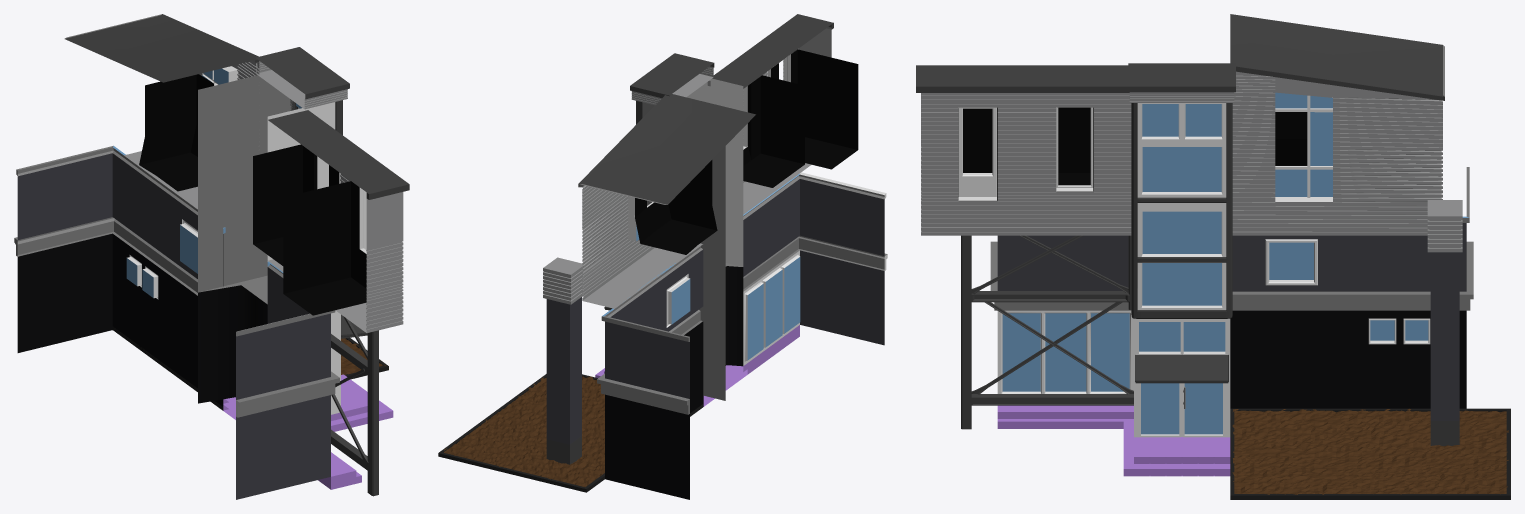
The model's file is Campus.fbx.
3 renders of one model, left to right at view 1: azimuth 30°, elevation 25°; view 2: azimuth 150°, elevation 25°; view 3: azimuth 270°, elevation 25°, orthographic. The views are drawn at different scales.
Visible parts, largest first — view 1: Box006; view 2: Box006; view 3: Box006.
Part boxes in pixels (left/top/right/bottom): Box006: left=14, top=14, right=409, bottom=499; Box006: left=438, top=14, right=887, bottom=499; Box006: left=916, top=14, right=1510, bottom=499.
Size of the model in its own units: 673 by 843 by 1236.
